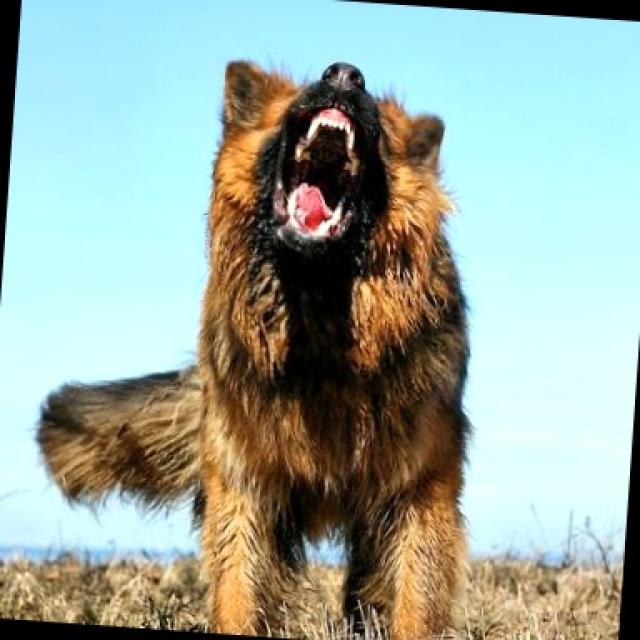angry: (126, 34, 528, 640)
